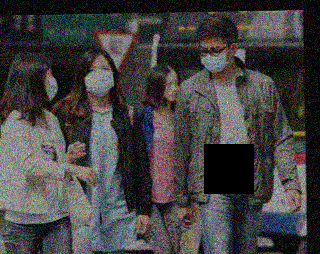with_mask: (82, 62, 115, 96), (198, 40, 232, 72), (42, 66, 59, 101)
without_mask: (163, 75, 181, 101)
